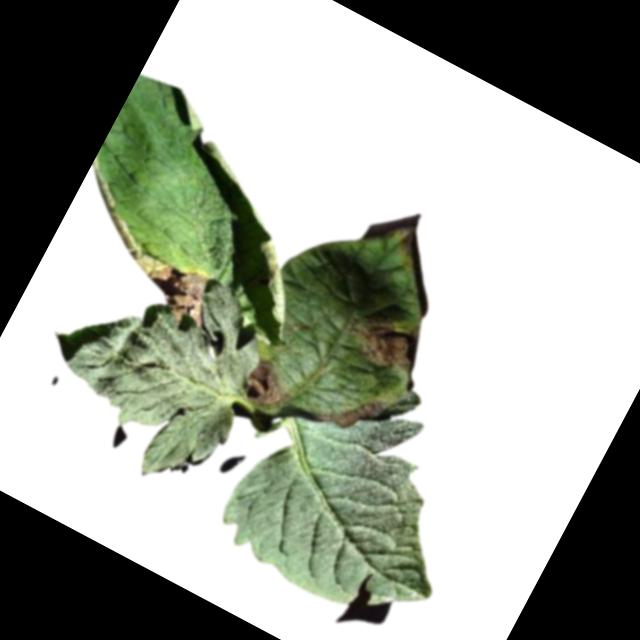Late_blight: (114, 240, 227, 338), (342, 303, 432, 382), (320, 379, 384, 441), (239, 355, 299, 416), (375, 217, 432, 271)
healthy: (206, 357, 500, 640), (15, 224, 290, 501)
